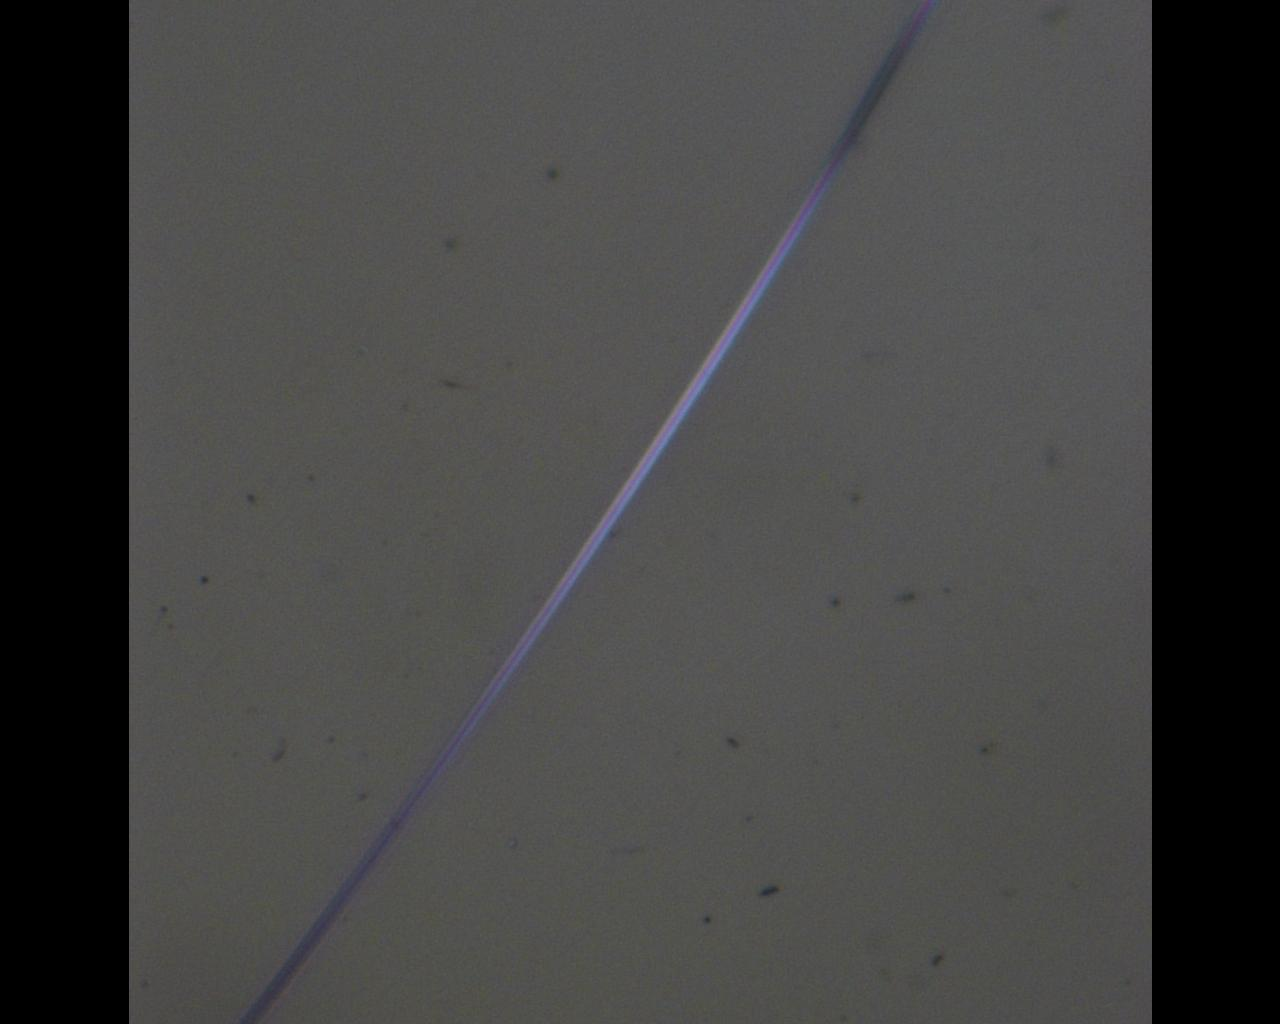fiber: (232, 0, 938, 1024)
